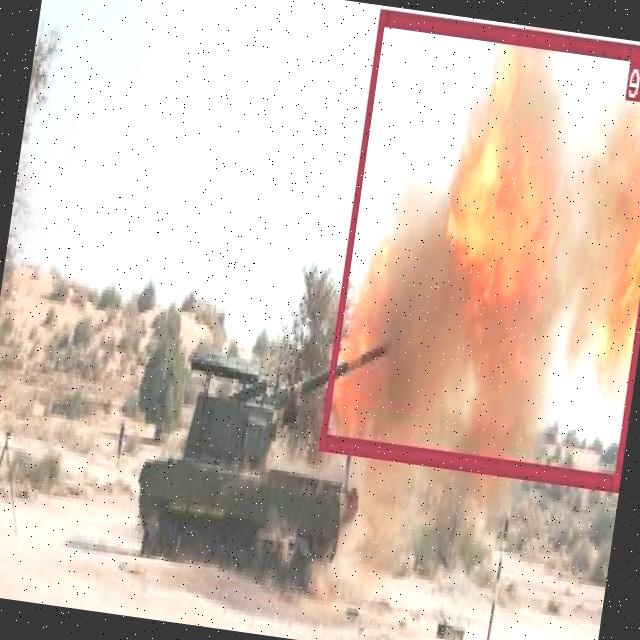fire: (321, 5, 640, 486)
